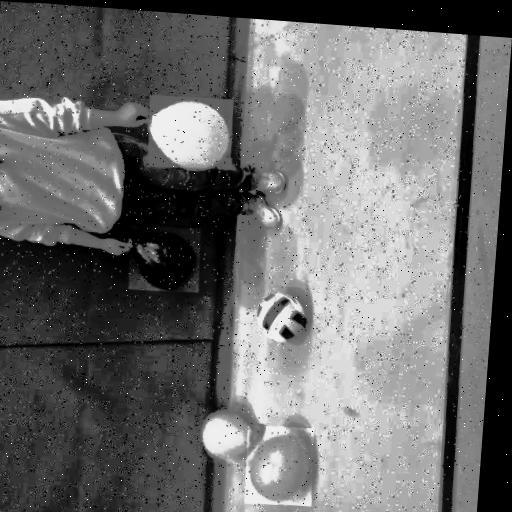balloon: (145, 94, 235, 172), (239, 424, 314, 508), (124, 223, 201, 294), (193, 406, 259, 466)
